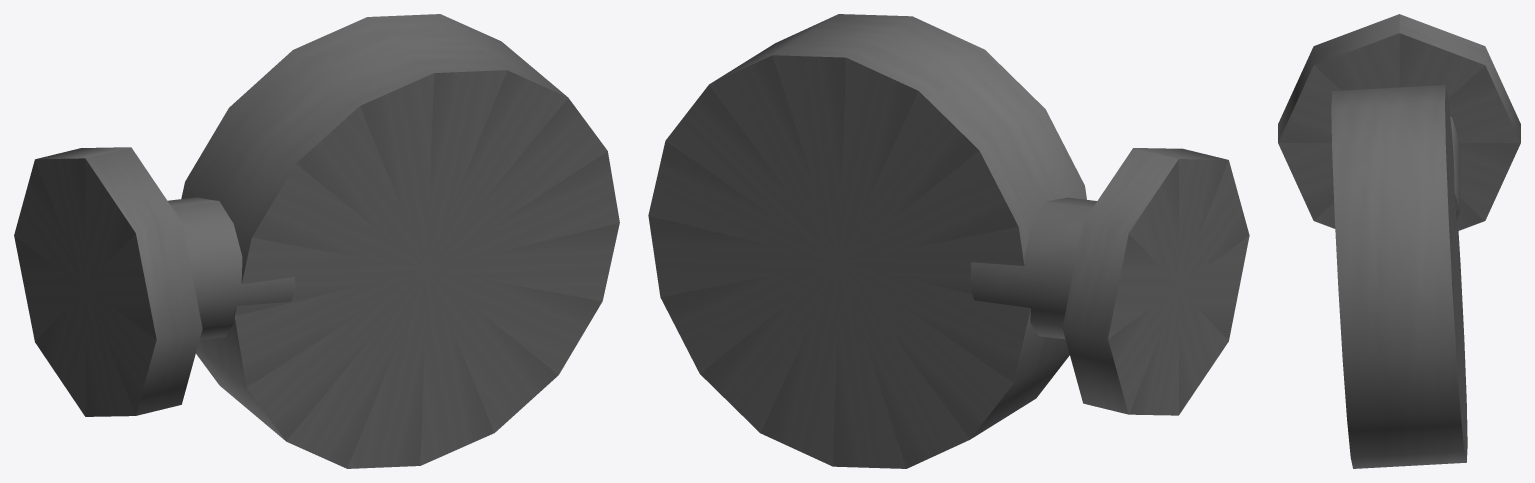
Rendered from mastarmcurve_10x2_c10_west.obj.
3 renders of one model, left to right at view 1: azimuth 30°, elevation 25°; view 2: azimuth 150°, elevation 25°; view 3: azimuth 270°, elevation 25°, orthographic. The views are drawn at different scales.
Visible parts, largest first — view 1: mastarm_10x2_c10_west; view 2: mastarm_10x2_c10_west; view 3: mastarm_10x2_c10_west.
Part boxes in pixels (bbox=[...]): mastarm_10x2_c10_west: bbox=[14, 14, 619, 468]; mastarm_10x2_c10_west: bbox=[648, 14, 1249, 468]; mastarm_10x2_c10_west: bbox=[1278, 14, 1520, 468].
Size of the model in its own units: 0.8112 by 0.6339 by 0.4.
